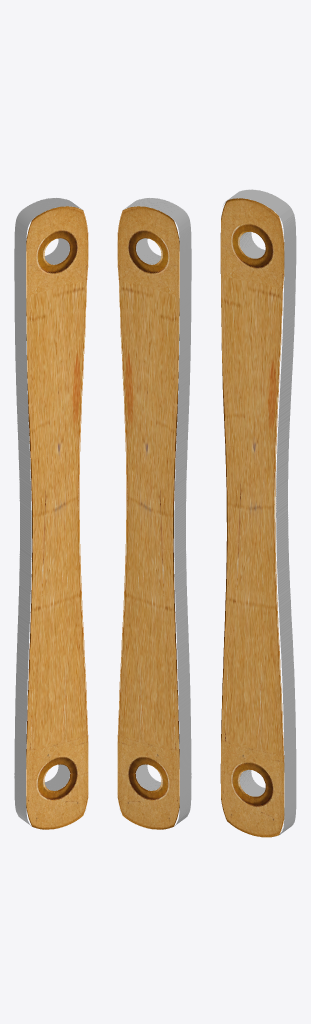
Rendered from UpperLeg.glb.
The picture shows the model from 3 angles, left to right: view 1: azimuth 30°, elevation 25°; view 2: azimuth 150°, elevation 25°; view 3: azimuth 330°, elevation 25°; orthographic projection. The views are drawn at different scales.
Visible parts, largest first — view 1: PaperVolume; view 2: PaperVolume; view 3: PaperVolume.
Part boxes in pixels (box(x1,y1,x2,y2)): PaperVolume: box(14, 198, 88, 829); PaperVolume: box(117, 198, 191, 829); PaperVolume: box(220, 189, 296, 837).
Size of the model in its own units: 0.25 by 3.71 by 0.08.
Materials: 3 (2 with a texture image).
